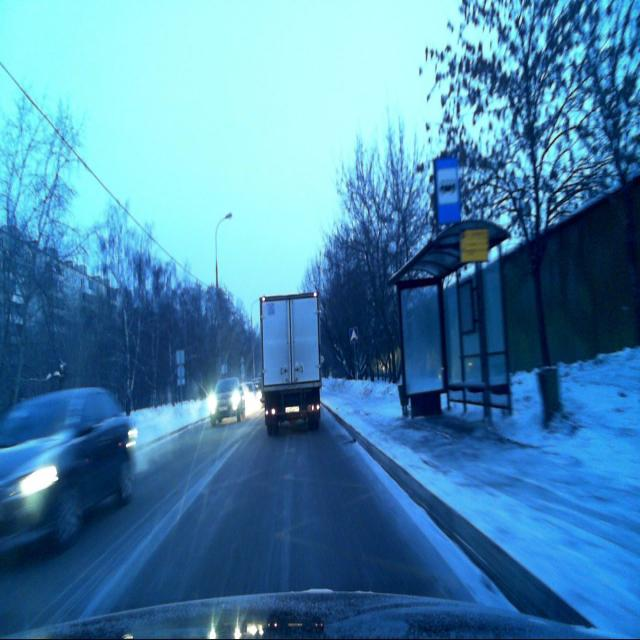road sign: (434, 158, 461, 224), (348, 327, 358, 344)
